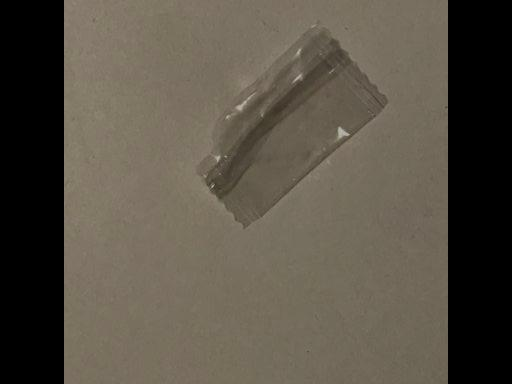trash: (200, 24, 387, 228)
